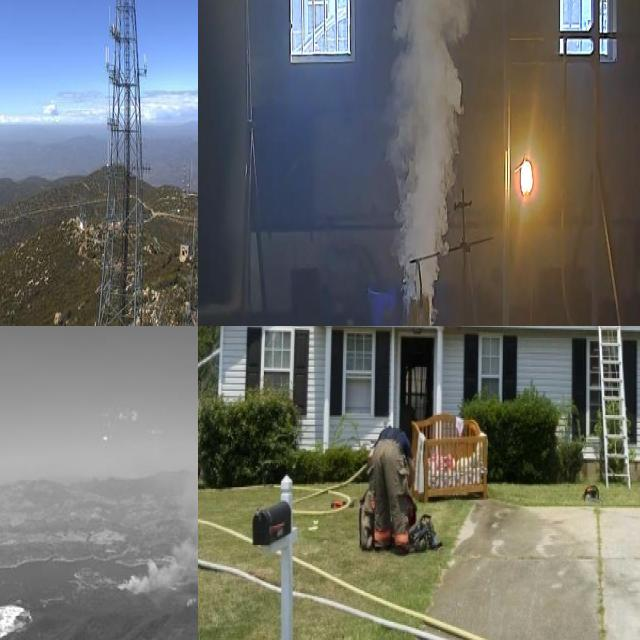smoke: (387, 0, 487, 296), (119, 461, 198, 595)
